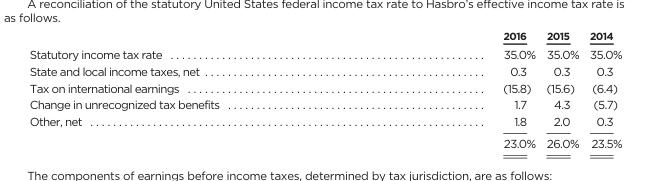table: (28, 28, 621, 149)
table column: (28, 28, 360, 149), (360, 28, 540, 149), (540, 28, 583, 149), (583, 28, 621, 149)
table column header: (28, 28, 621, 43)
table row: (28, 43, 621, 62), (28, 112, 621, 131), (28, 131, 621, 149), (28, 78, 621, 95), (28, 95, 621, 112), (28, 62, 621, 78), (28, 28, 621, 43)
